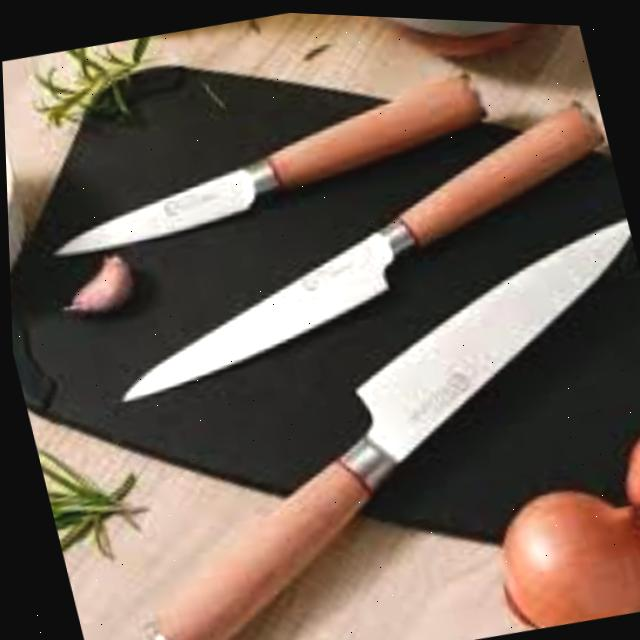knife: (58, 186, 640, 640), (60, 70, 640, 419), (20, 50, 500, 273)
